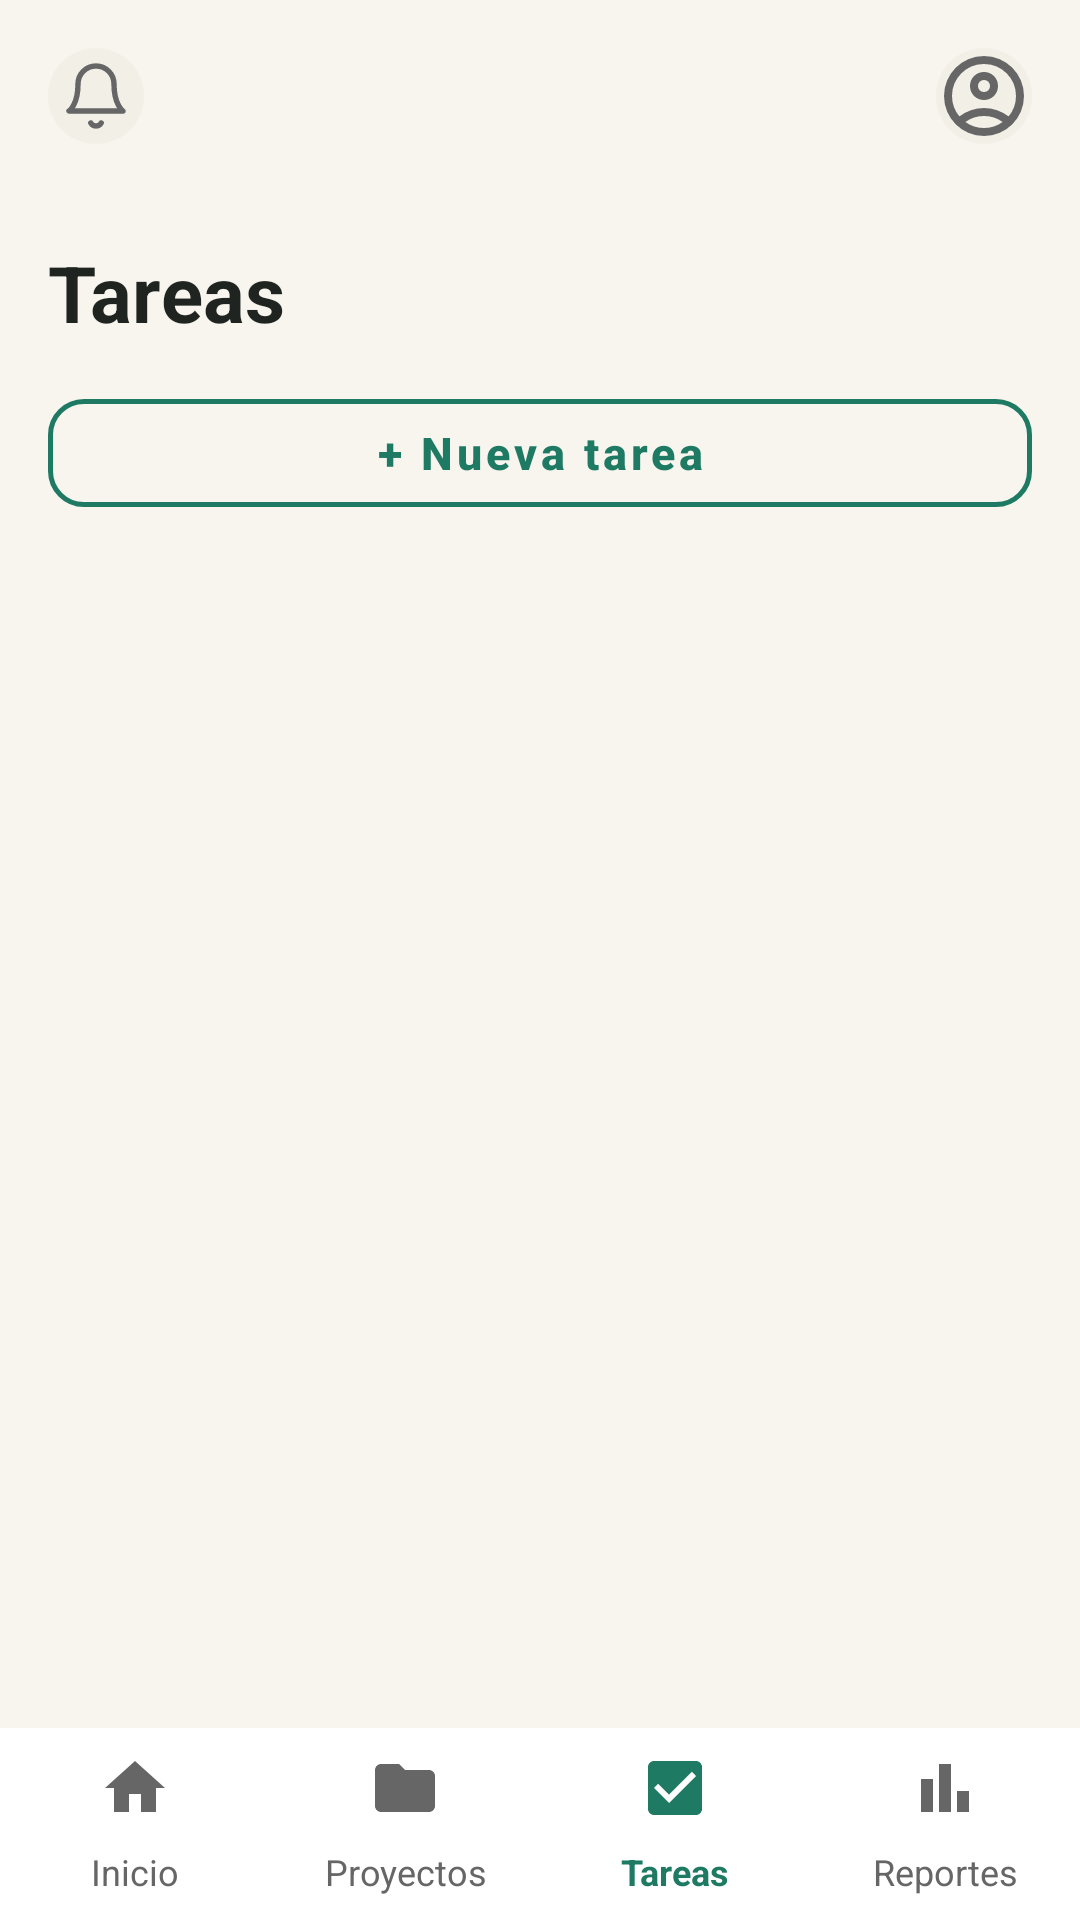

Screen size 1080 x 1920. Icon name, then its center in pixels as (x=x, y=y):
Notificaciones: (x=96, y=96)
Perfil: (x=984, y=96)
